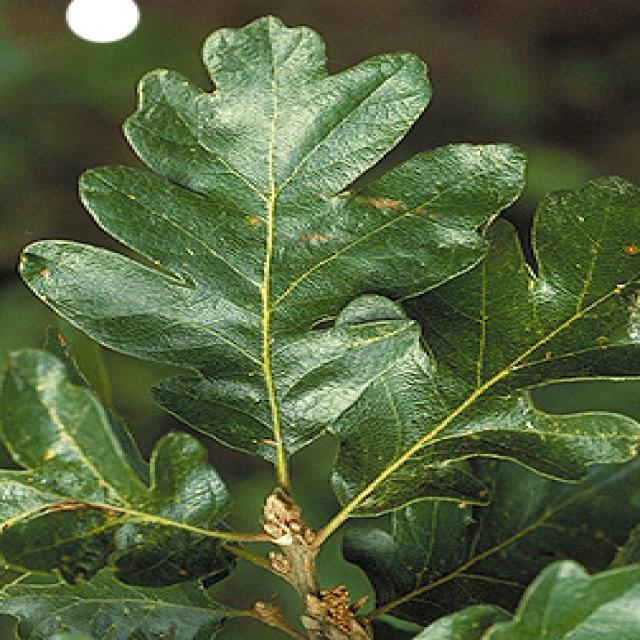Quercus garryana: (12, 5, 532, 640)
